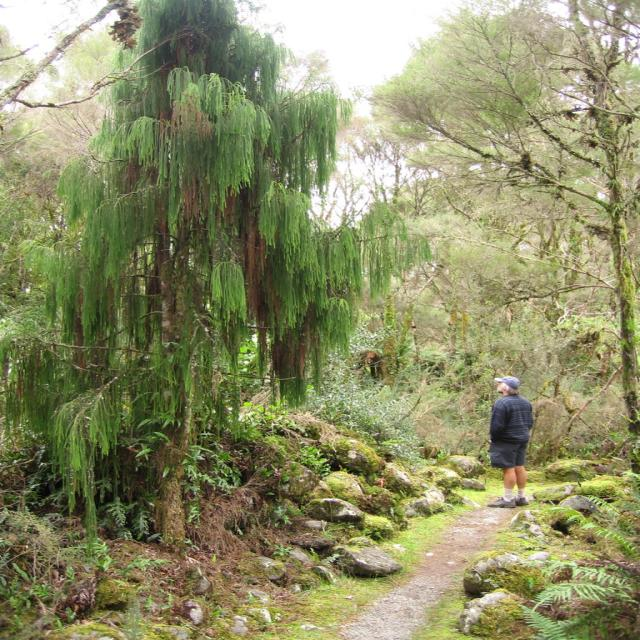Rimu: (4, 4, 437, 559)
